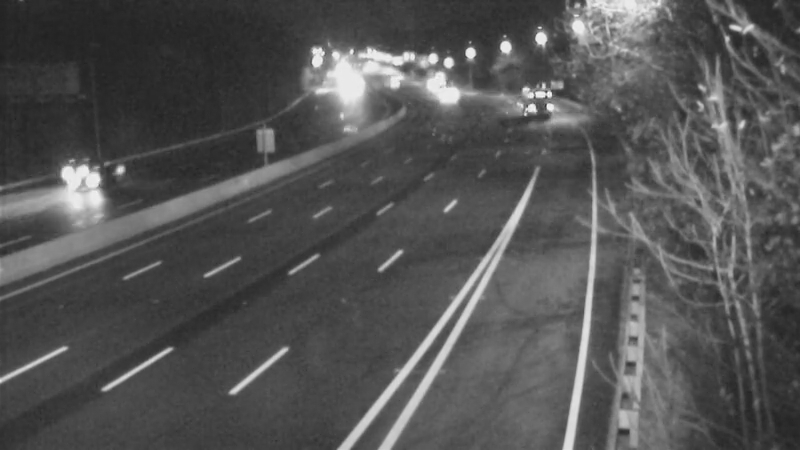vehicle: (27, 130, 107, 210), (55, 142, 135, 222), (413, 59, 463, 109), (418, 68, 468, 118), (506, 72, 556, 122)
